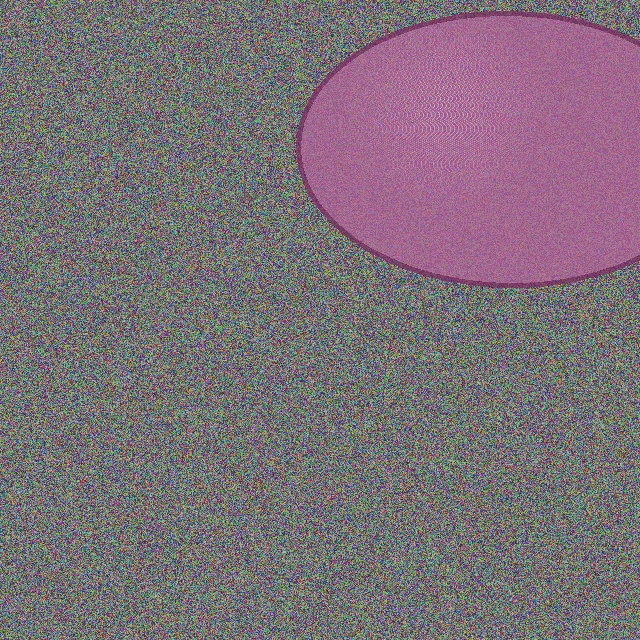lens: (298, 13, 640, 285)
